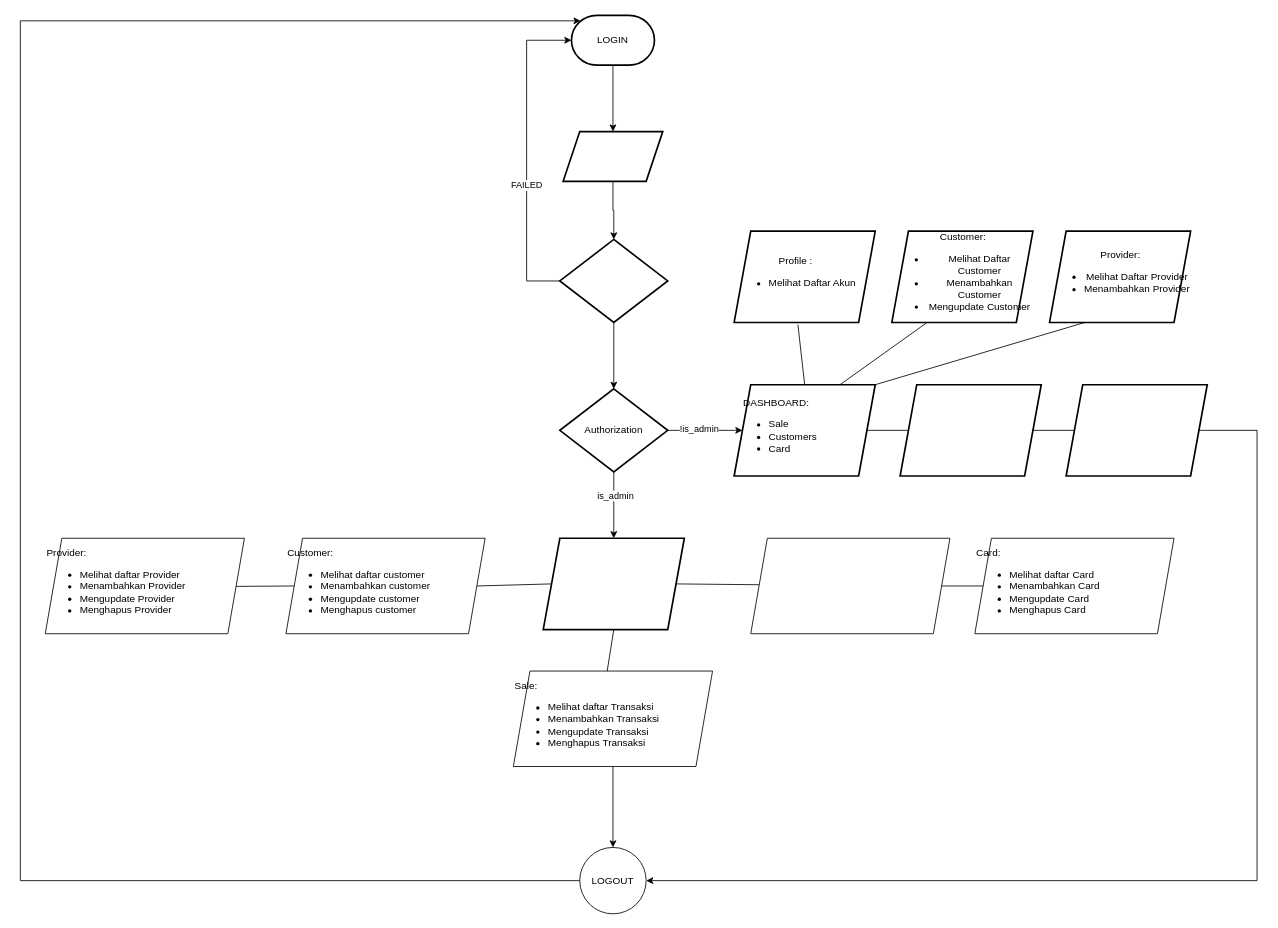
Some shapes in this 1278 by 928 pixel diagram are drawn without their labels. The shapes that lost their labels are listed below. From the top down, each one's box as (x1, y1, x2, y2) in pixels, then its label:
(562, 130, 663, 182): email and password
(559, 238, 668, 323): Authentication
(899, 383, 1042, 476): Card: Melihat Daftar Kartu Menambahkan Kartu
(1065, 383, 1208, 476): Sale: Melihat Daftar Transaksi Menambahkan Transaksi
(542, 537, 685, 630): DASHBOARD: Sale Revenue Customers Card
(750, 537, 950, 634): Profile: Melihat daftar Akun Menambahkan Akun Mengupdate Akun Menghapus Akun
